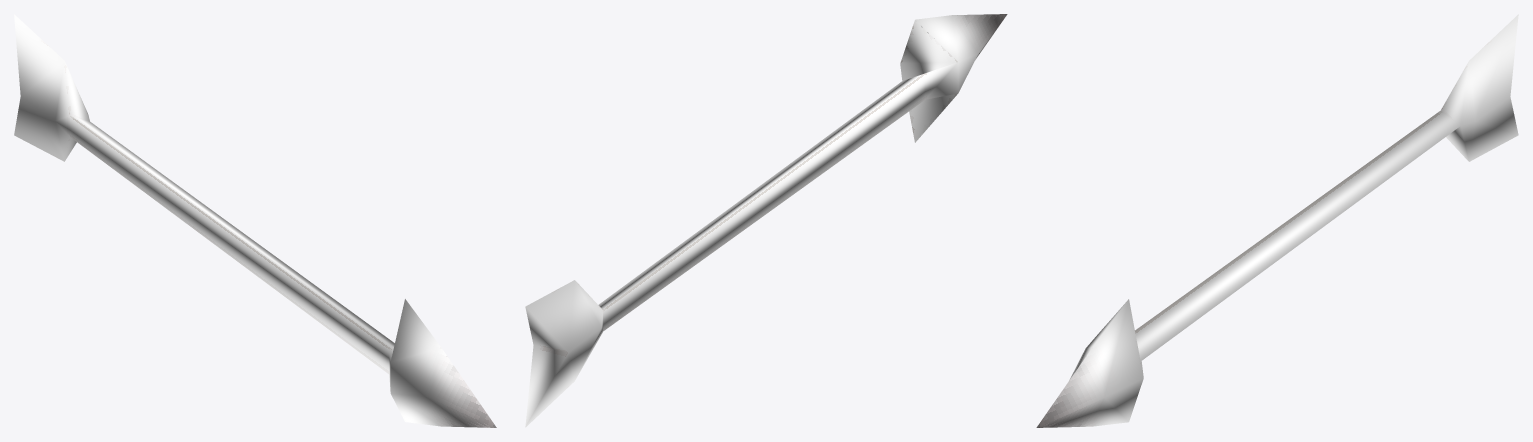
The model's file is Eff_Archer_arrow.FBX.
3 views of the same model, side by side, from view 1: azimuth 30°, elevation 25°; view 2: azimuth 150°, elevation 25°; view 3: azimuth 330°, elevation 25° (orthographic).
Parts seen in each view (by area): view 1: Eqp_Archer_arrow; view 2: Eqp_Archer_arrow; view 3: Eqp_Archer_arrow.
Boxes of the visible parts, x1=… form: Eqp_Archer_arrow: x1=14, y1=14, x2=496, y2=427; Eqp_Archer_arrow: x1=525, y1=14, x2=1007, y2=427; Eqp_Archer_arrow: x1=1036, y1=14, x2=1518, y2=427.
Size of the model in its own units: 0.0668 by 0.1354 by 0.959.
1 material, 1 textured.
